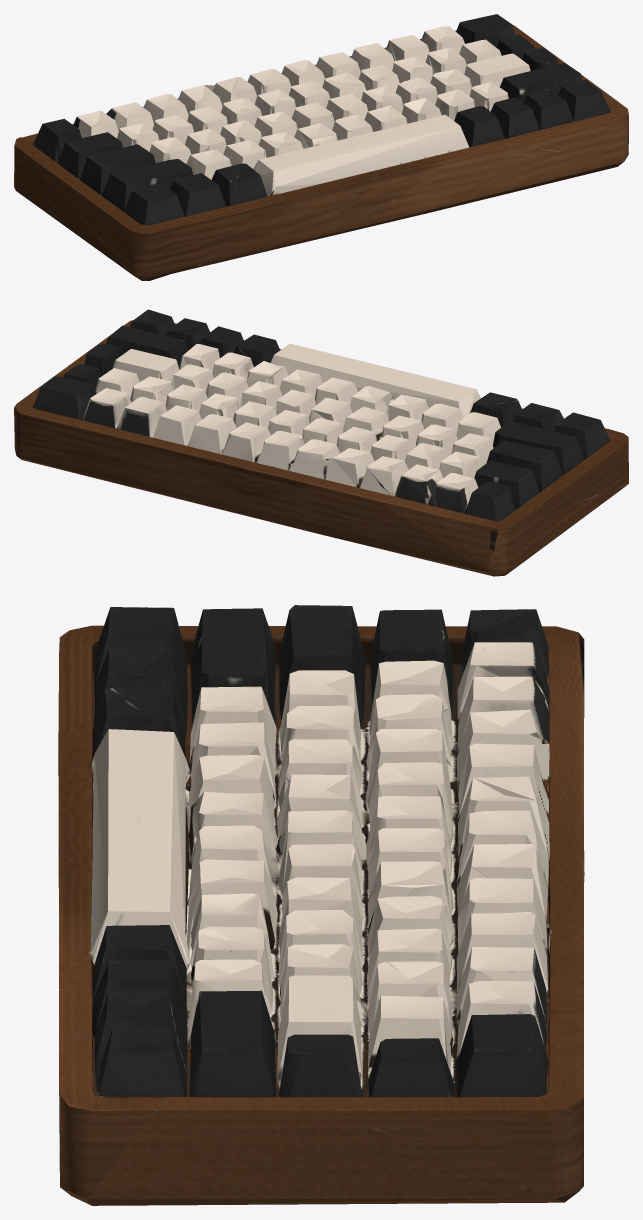
The model's file is computer_keyboard.glb.
3 renders of one model, top to bottom at view 1: azimuth 30°, elevation 25°; view 2: azimuth 150°, elevation 25°; view 3: azimuth 270°, elevation 25°, orthographic. The views are drawn at different scales.
Visible parts, largest first — view 1: output_unwrapped; view 2: output_unwrapped; view 3: output_unwrapped.
Boxes of the visible parts, x1,y1,x2,y2 form: output_unwrapped: (14,14,628,280); output_unwrapped: (14,309,628,576); output_unwrapped: (58,605,584,1205).
Bounding box in the file's own units: 1.9 × 0.2609 × 0.8712.
1 material, 1 textured.
